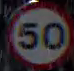Speed limit: (7, 1, 73, 67)
